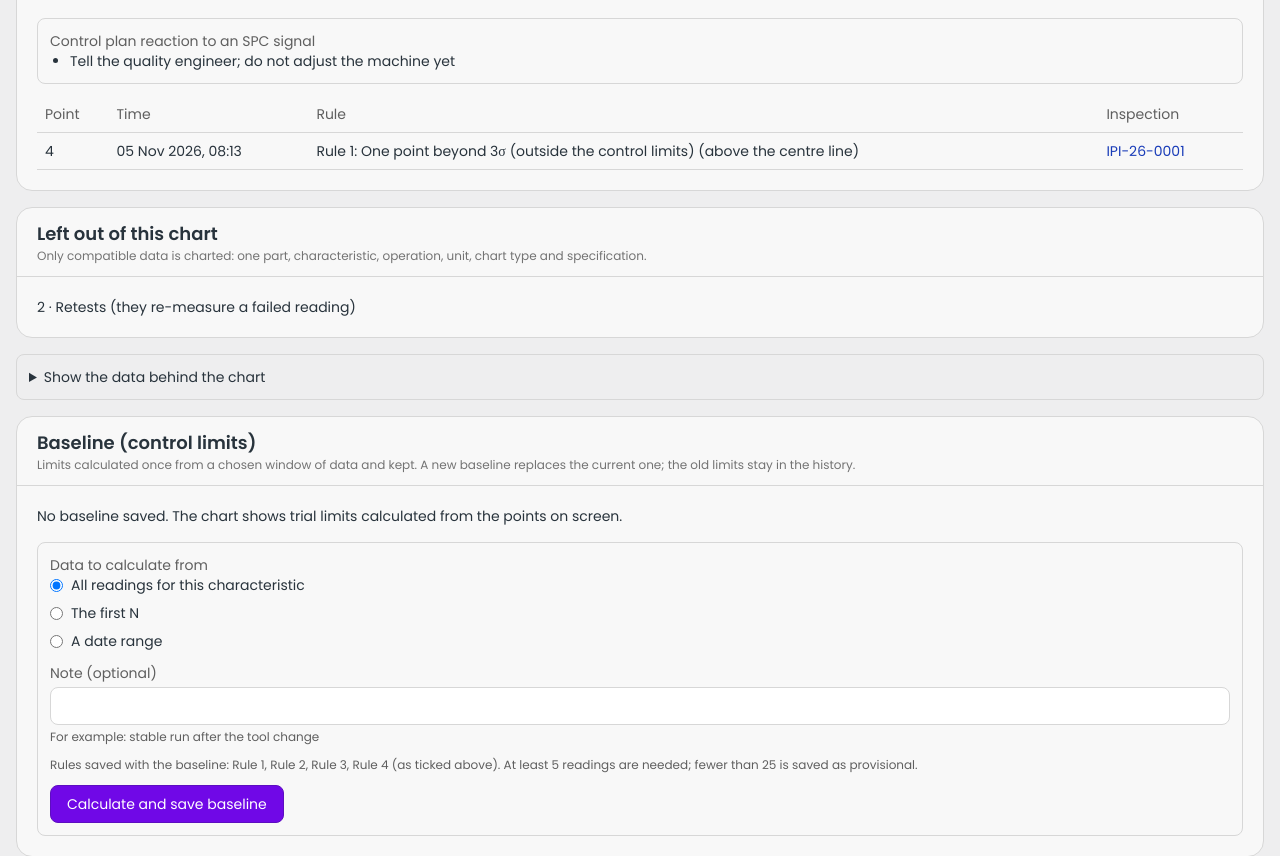
Test: Baseline panel › saves a baseline from the first N points with the ticked rules
This screenshot has width=1280, height=856.
(page scrolled)
Click the radio button labelled "The first N" at (56, 613), box [50,606,63,620]
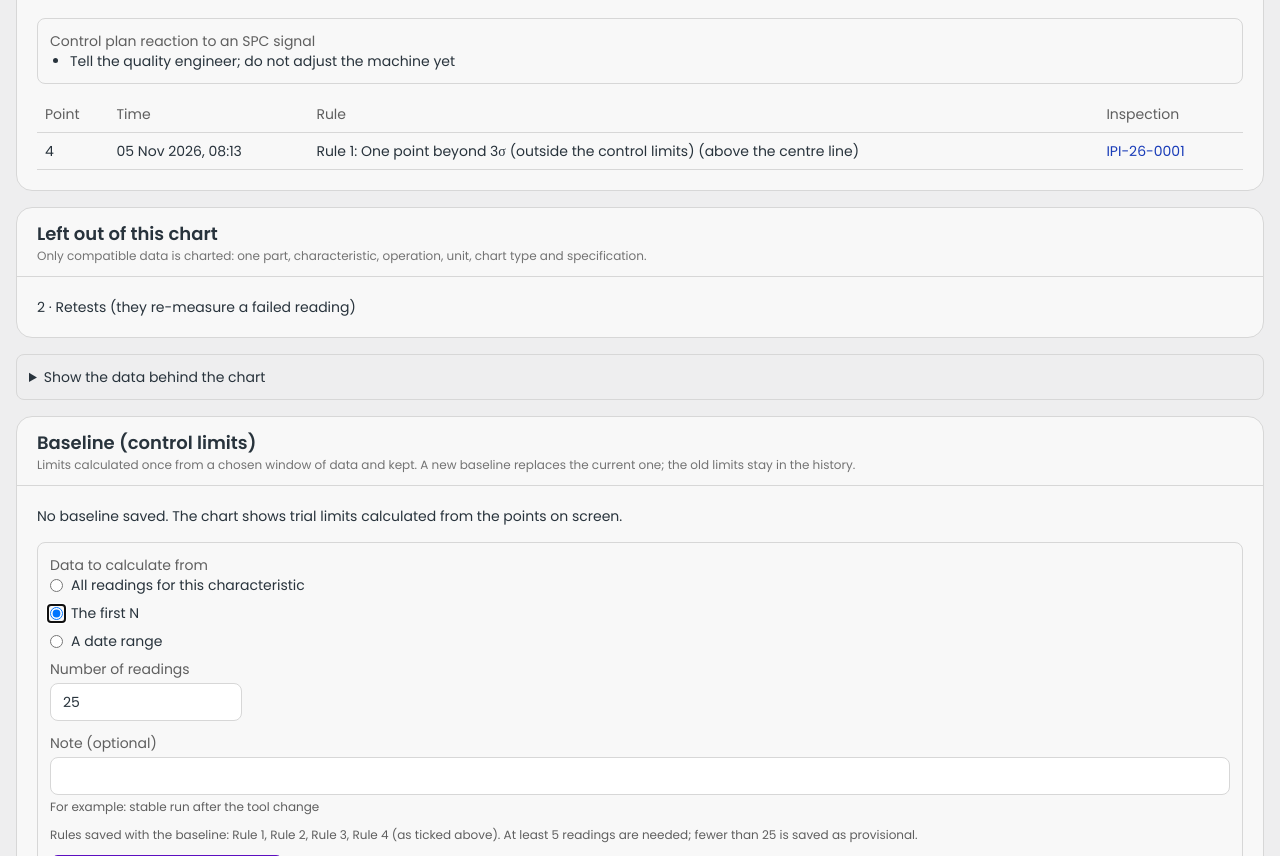
Replace the text in the number field labelled "Number of readings" with "12" at (146, 702), box [50,683,242,721]
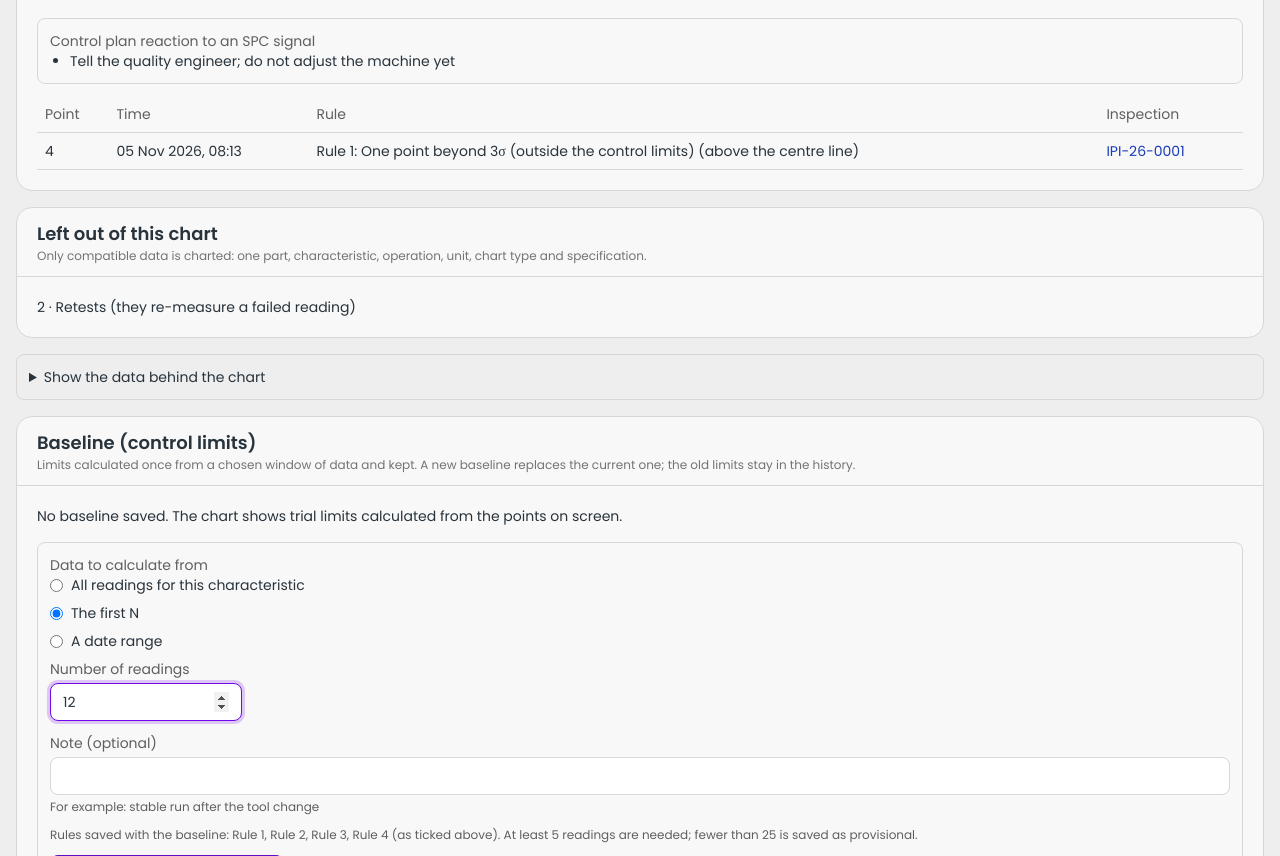
Type "Stable run" into the field labelled "Note (optional)" at (640, 776), box [50,757,1230,795]
(page scrolled)
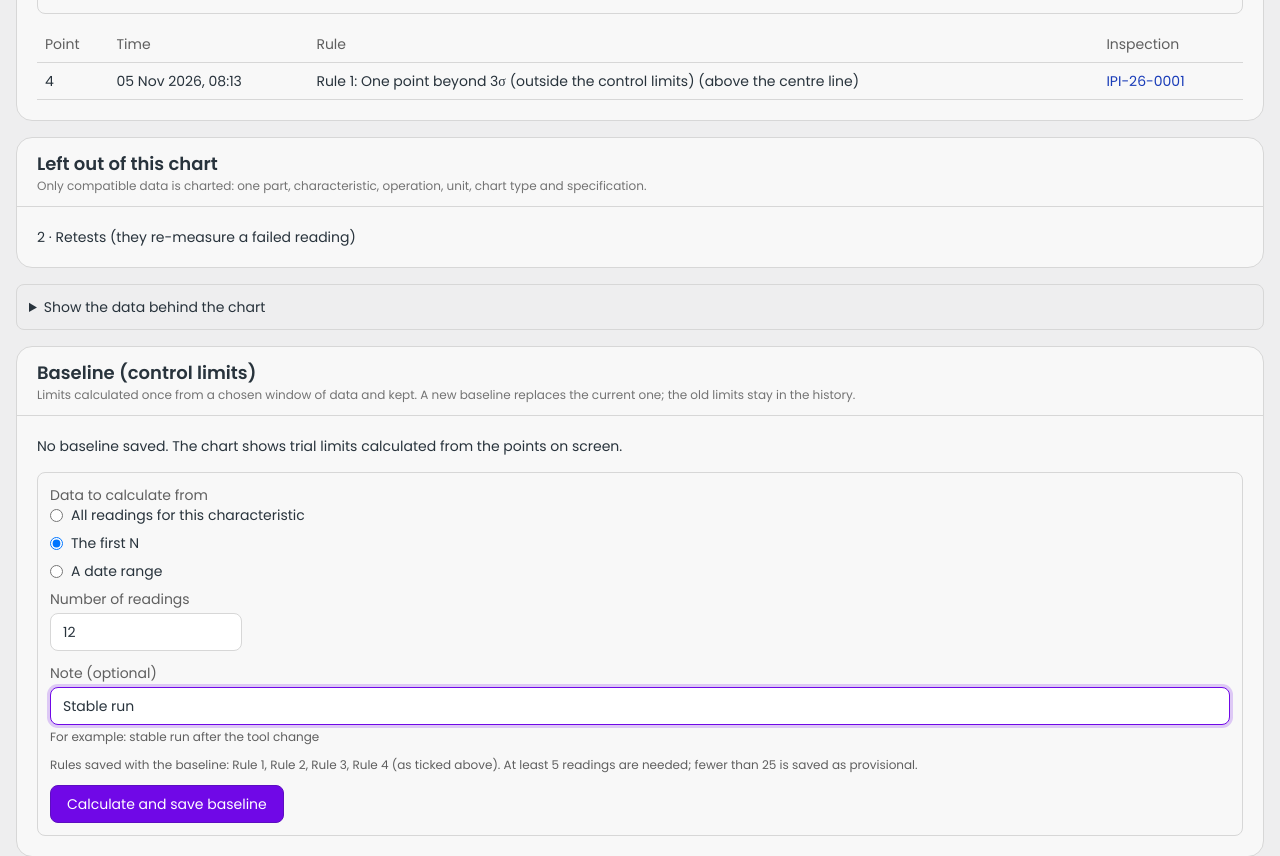
Click the button "Calculate and save baseline" at (167, 804), box [50,785,284,823]
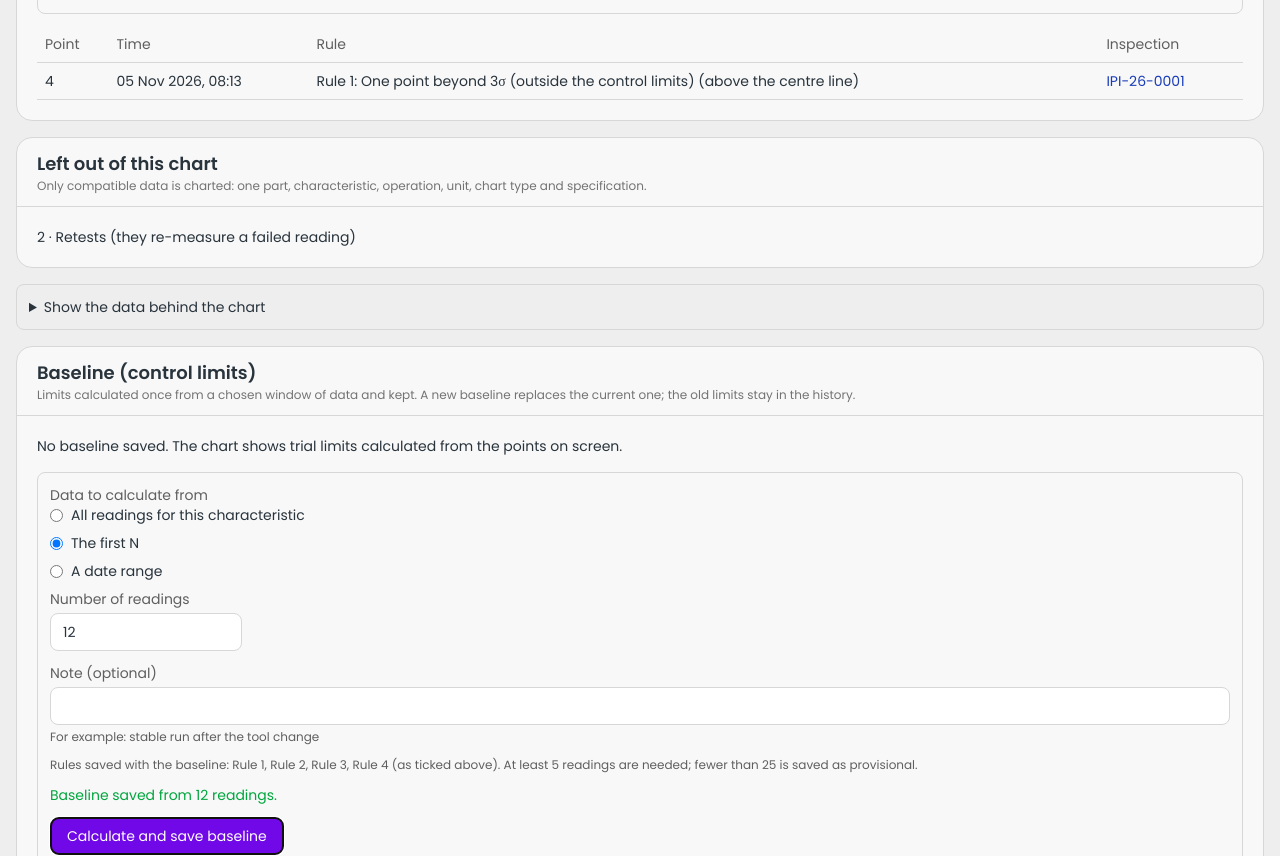
Expected: the message shows "Baseline saved from 12 readings", [50,785,277,805]
